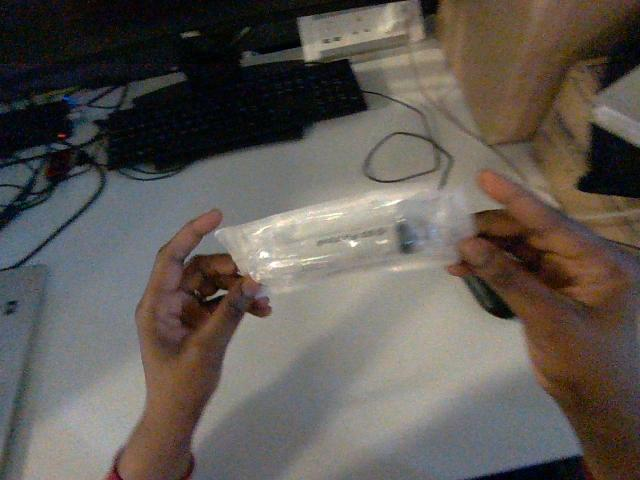syringe: (215, 187, 474, 290)
